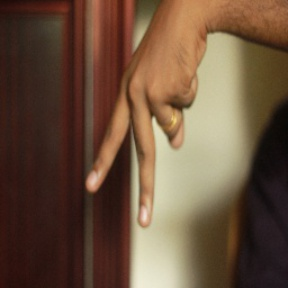Y: (83, 50, 192, 229)
